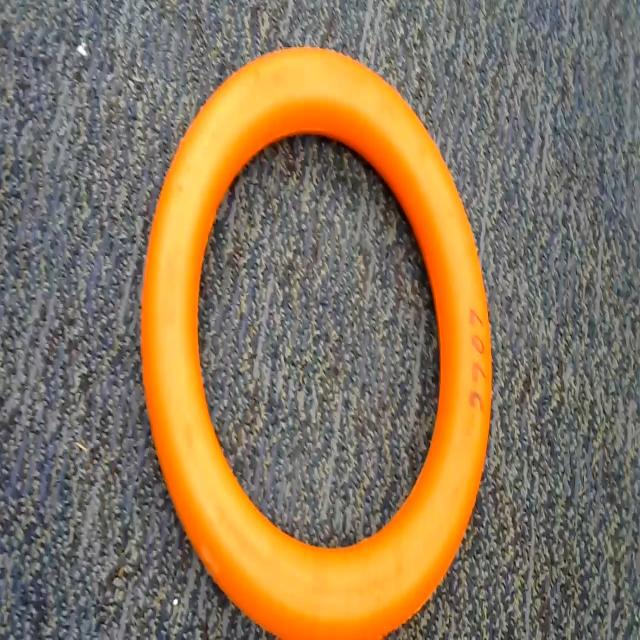note: (136, 32, 504, 640)
